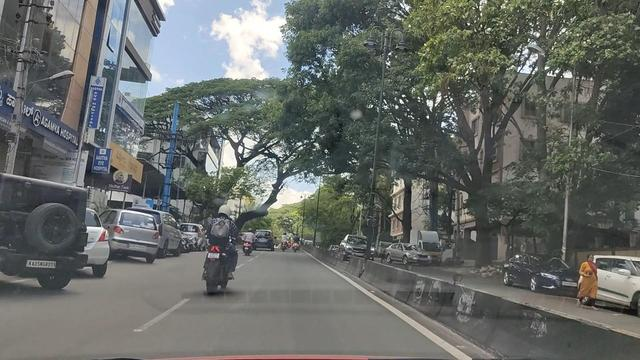LMV: (8, 168, 88, 301), (191, 202, 239, 311), (115, 203, 160, 271)
